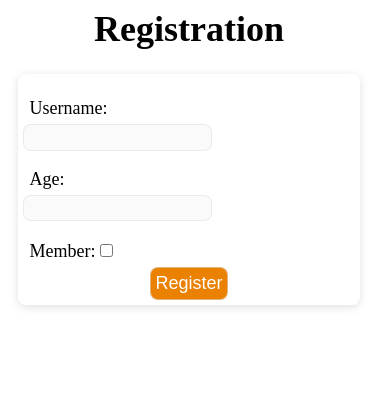
Form show error text when input is missing and submit is clicked.
Check: the field labelled "Username:" is empty, box x1=23 y1=124 x2=212 y2=151
Click the button "Register".
click(189, 283)  # box x1=150 y1=267 x2=228 y2=300
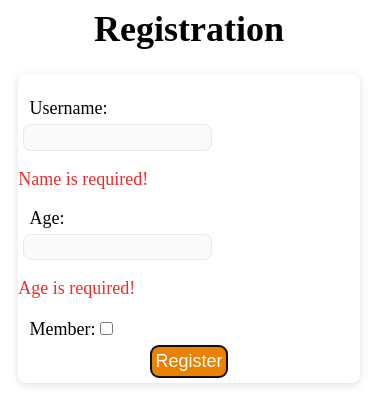
Check: the text with id "errorName" reads "Name is required!", box x1=18 y1=169 x2=148 y2=189
